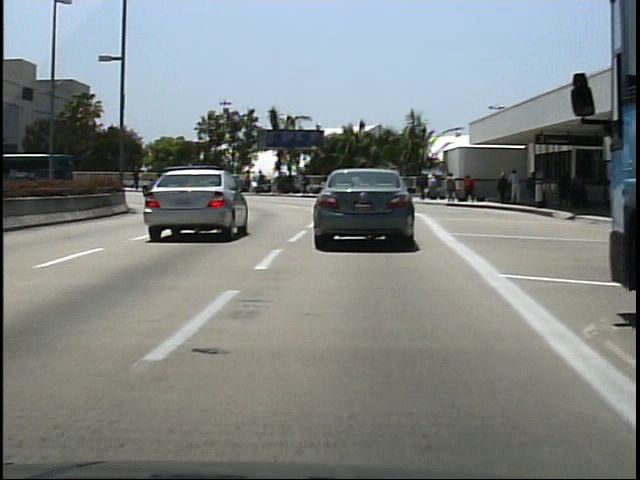person: (554, 164, 572, 211), (507, 167, 523, 207), (462, 172, 479, 207), (524, 169, 540, 206), (495, 170, 511, 206), (445, 169, 460, 203), (130, 162, 145, 192), (416, 171, 430, 202), (197, 169, 214, 194)
